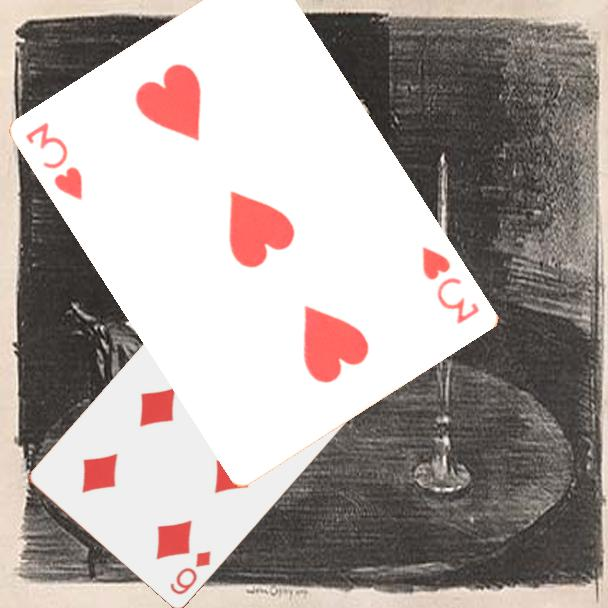d06: (166, 547, 214, 598)
h03: (418, 242, 484, 327), (22, 118, 87, 204)
